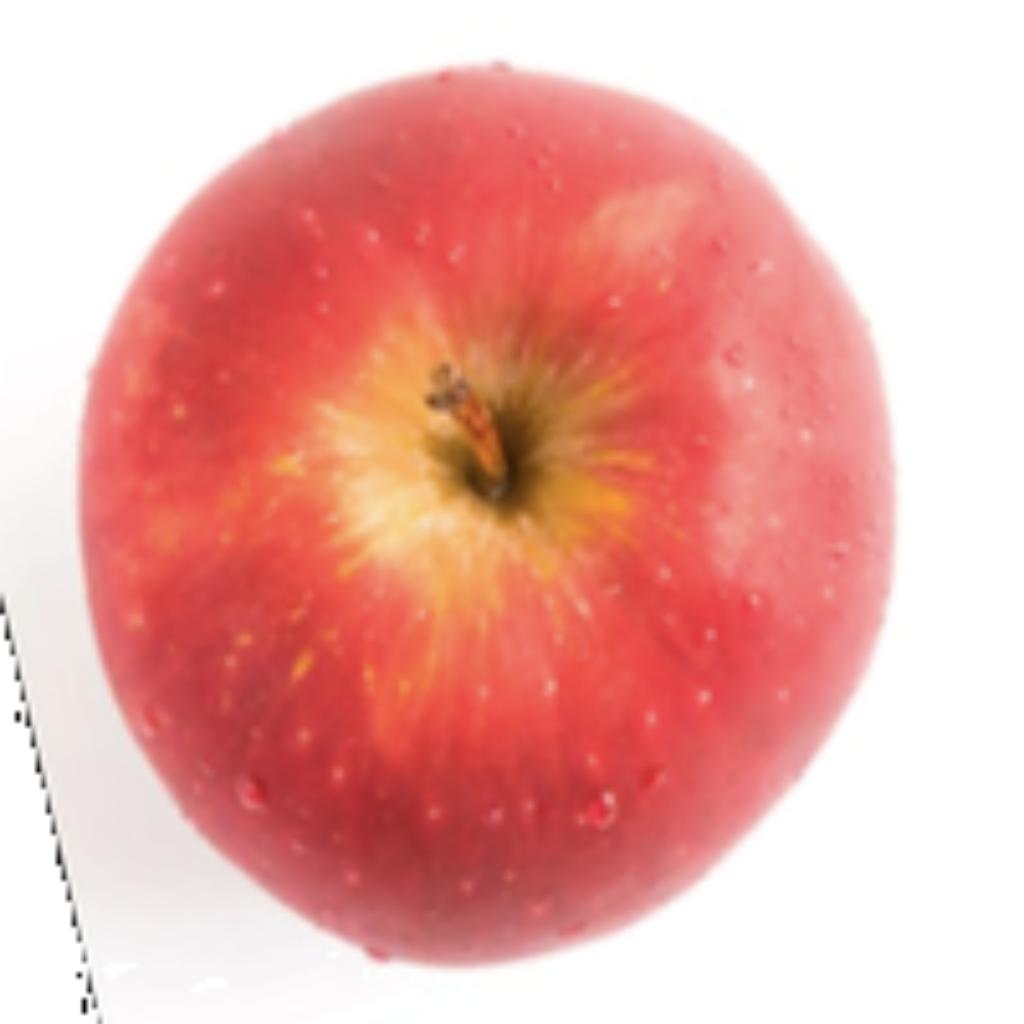apple: (67, 51, 901, 973)
